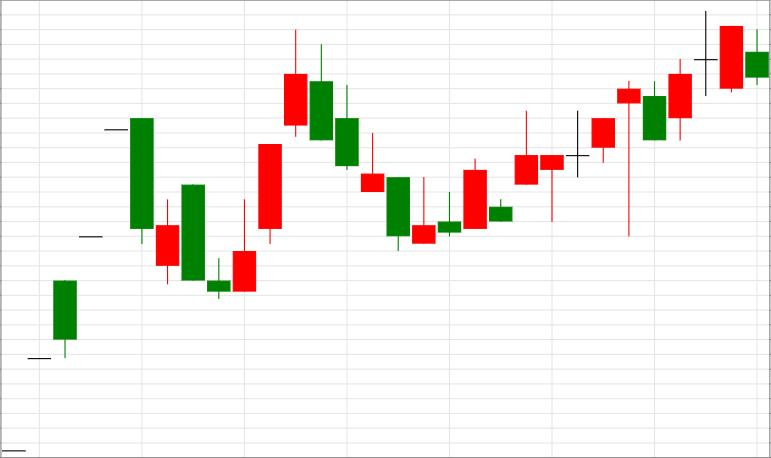three_white_soldiers_rise: (129, 29, 307, 300)
